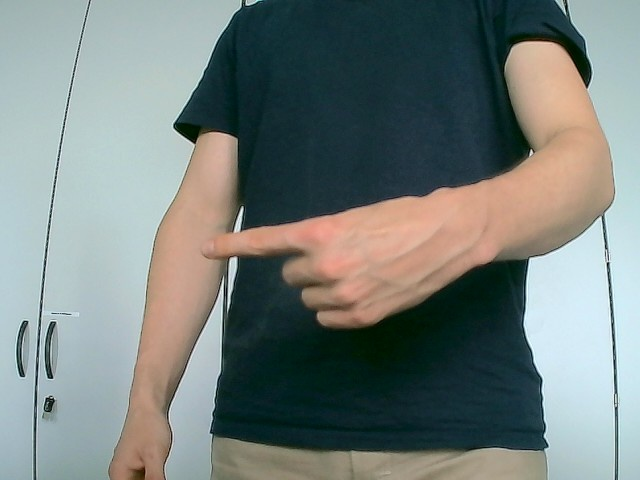right: (200, 183, 498, 331)
